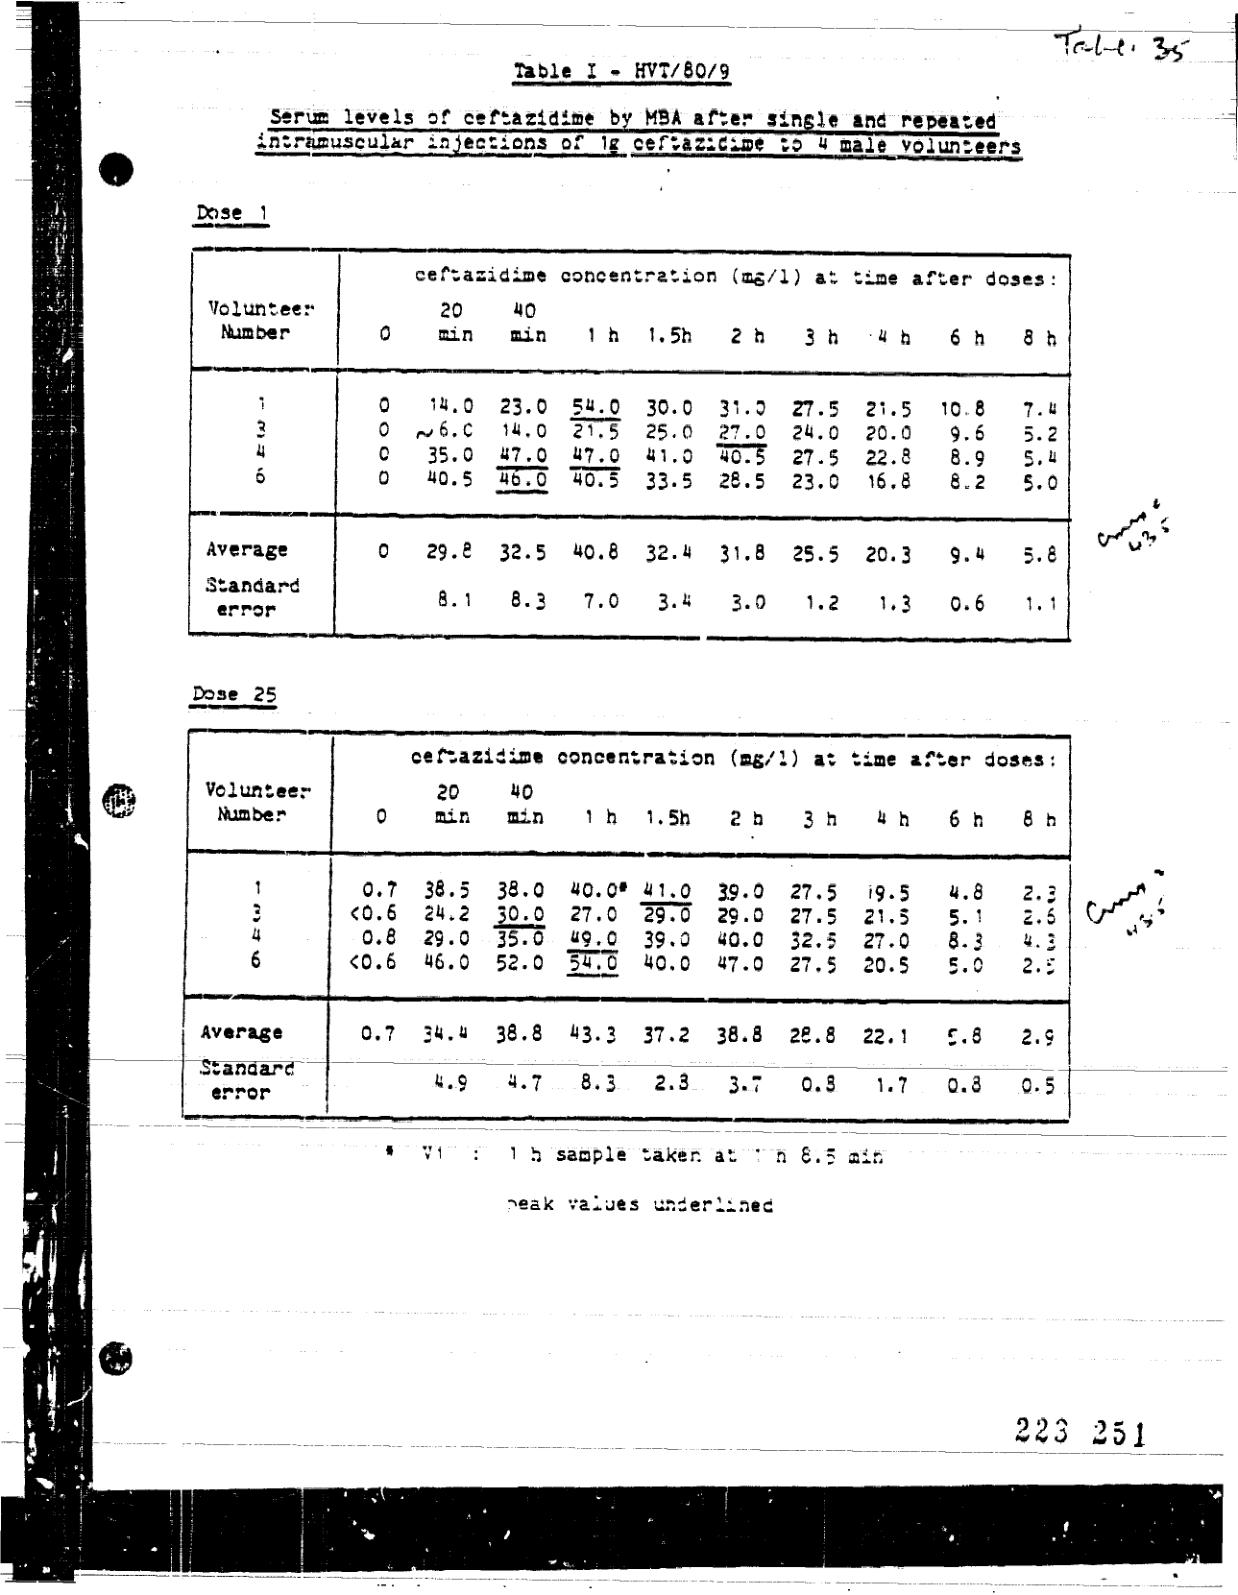partial_lined_merged_cells: (181, 237, 1077, 651), (177, 721, 1077, 1125)
